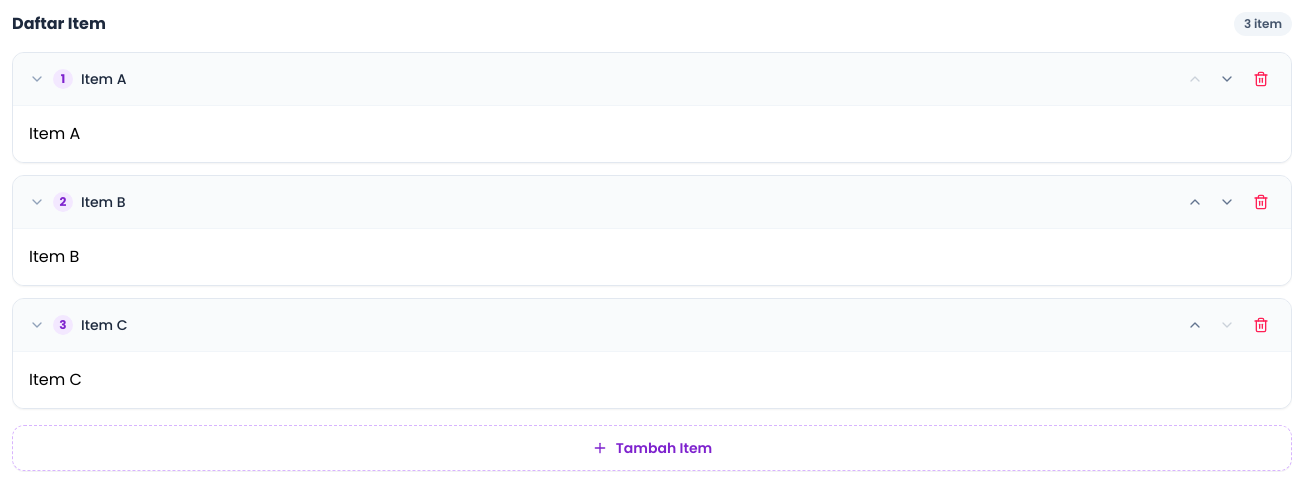
SortableItemList collapse state › shifts surviving collapse states after deleting a middle item
The width and height of the screenshot is (1304, 489).
Step 1. Click the button "2 Item B" → {"x": 103, "y": 202}, box [29, 188, 1173, 216]
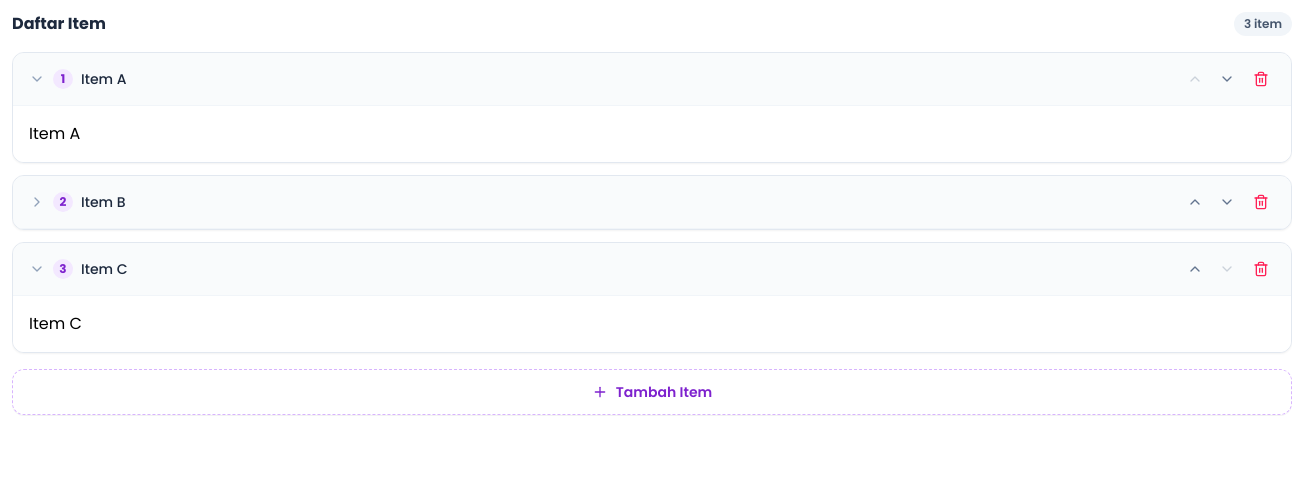
Check: the text with test id "body-b" is gone
Step 2. Click the 2nd button titled "Hapus item" → {"x": 1261, "y": 202}, box [1247, 188, 1275, 216]
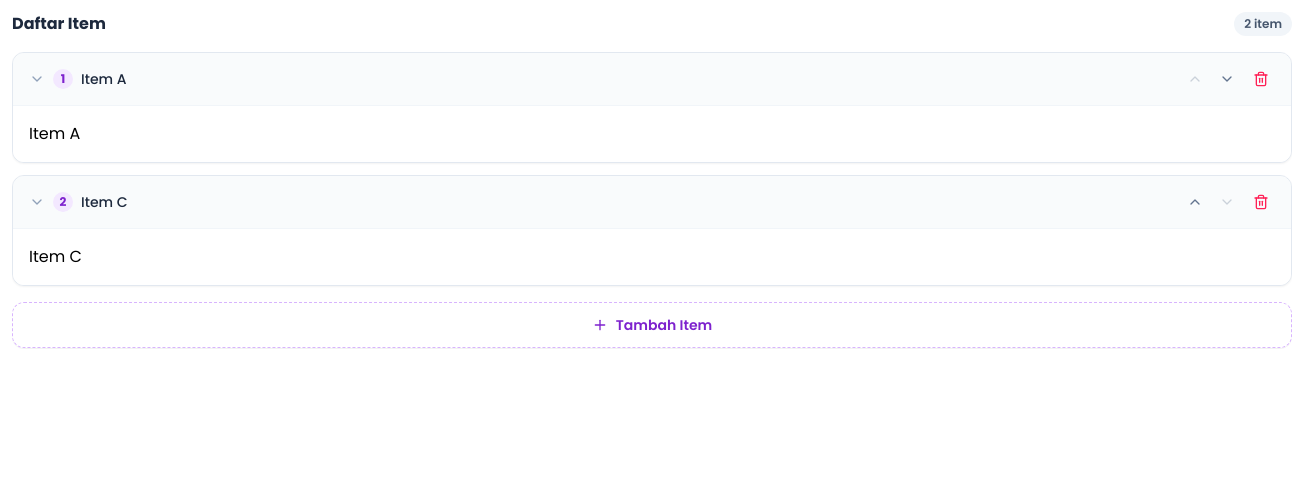
Check: the text with test id "body-a" is shown, box [29, 122, 80, 145]
Check: the button "Item B" is gone
